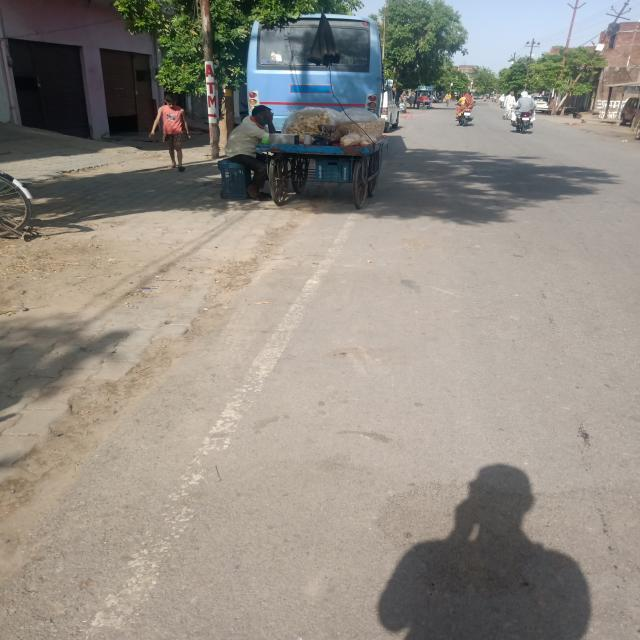bus_back: (241, 7, 394, 166)
two_wheeler_back: (507, 98, 542, 140), (449, 98, 483, 130)
